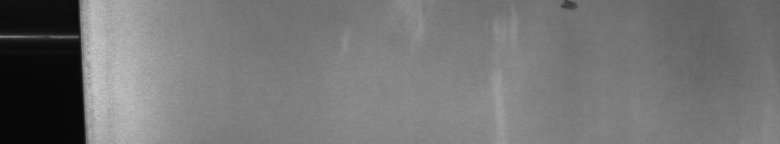fi: (560, 4, 580, 16)
